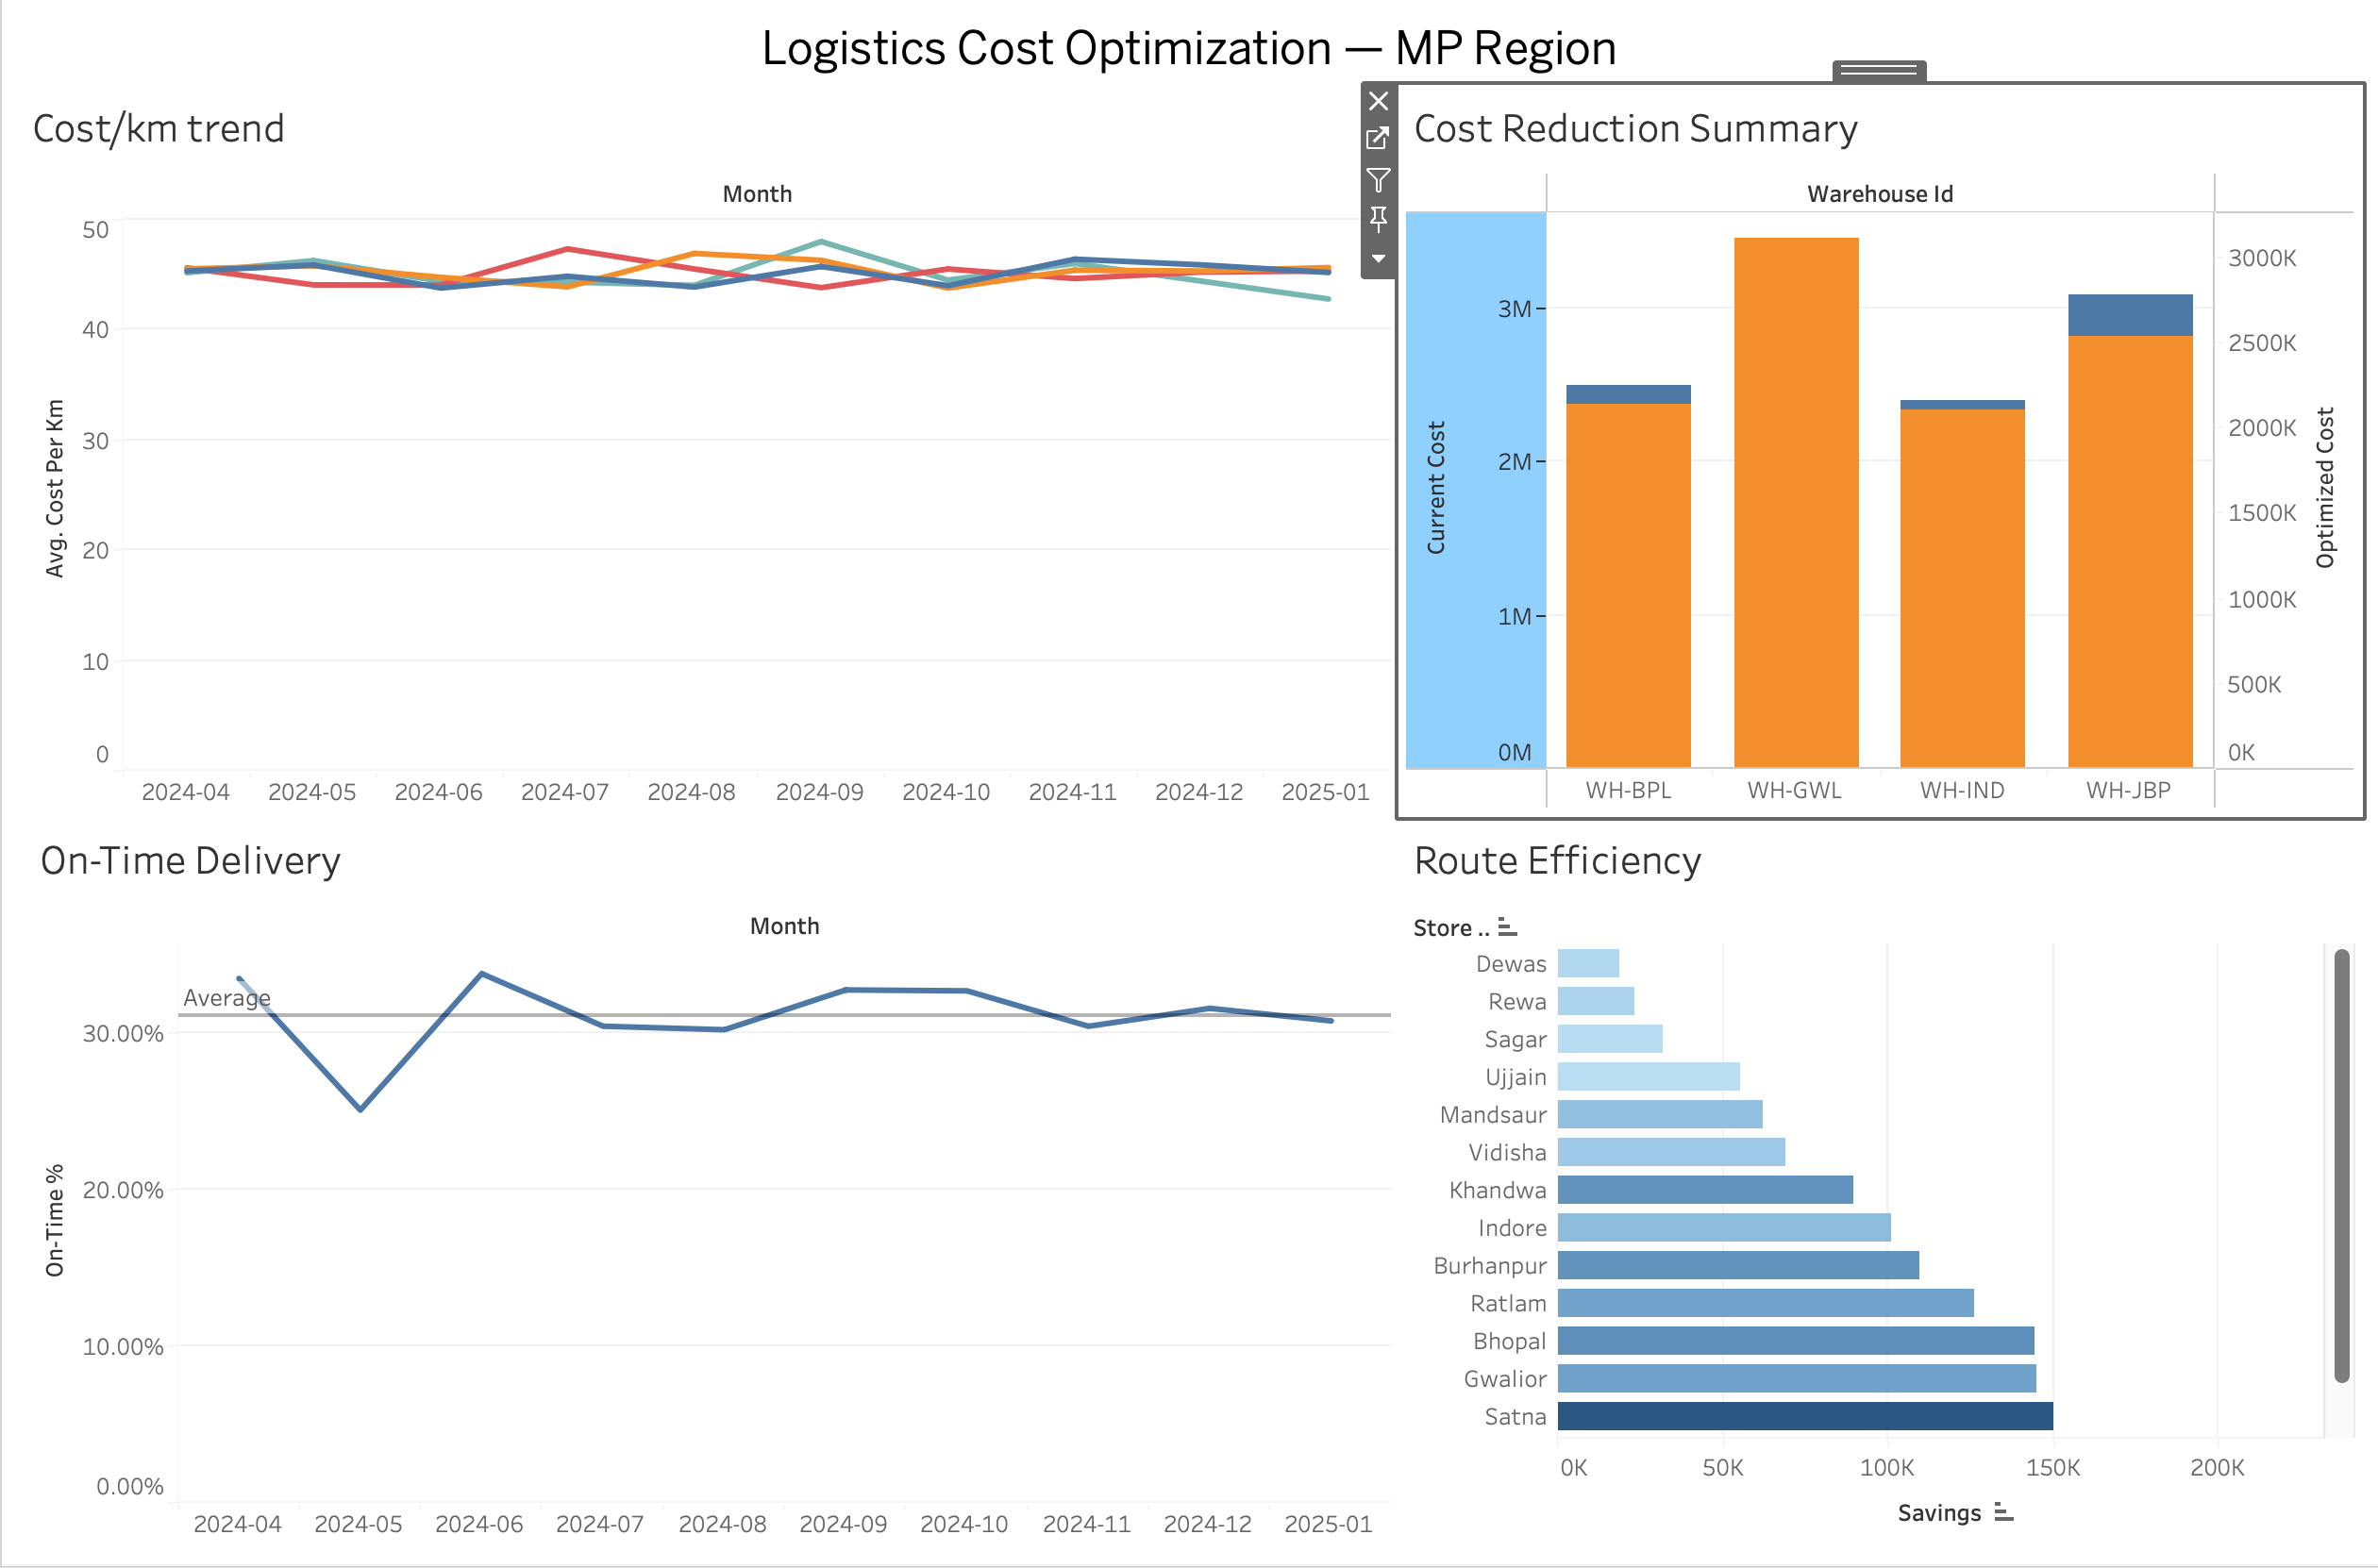

Layout of this report page (visuals, bound fields, positions):
{"tool":"tableau","page":{"name":"Dashboard 1","canvas":[1000,1000],"units":"permille","ordinal":0},"visuals":[{"type":"title","box":[7.7,10.8,984.6,52.7]},{"type":"worksheet","title":"Cost/km trend","mark":"Line","rows":["cost_per_km"],"cols":["month"],"box":[7.7,63.5,492.3,462.8]},{"type":"worksheet","title":"Cost Reduction Summary","mark":"Bar","rows":["current_cost","optimized_cost"],"cols":["warehouse_id"],"box":[500,63.5,492.3,462.8]},{"type":"worksheet","title":" On-Time Delivery","mark":"Line","rows":["Calculation_6841868579573761"],"cols":["month"],"box":[7.7,526.4,492.3,462.8]},{"type":"worksheet","title":"Route Efficiency","mark":"Bar","rows":["store_city"],"cols":["savings"],"box":[500,526.4,492.3,462.8]}]}

Visuals, with their boxes on the dashboard's canvas, which has no fixed pixel size, in thousandths of its width and height (x1, y1, x2, y2). These are canvas units, not pixel positions in the 2378x1568 screenshot, which may show the page scaled, cropped or inside an application window:
title: 8, 11, 992, 64
"Cost/km trend" worksheet (Line marks): 8, 64, 500, 526
"Cost Reduction Summary" worksheet (Bar marks): 500, 64, 992, 526
" On-Time Delivery" worksheet (Line marks): 8, 526, 500, 989
"Route Efficiency" worksheet (Bar marks): 500, 526, 992, 989
